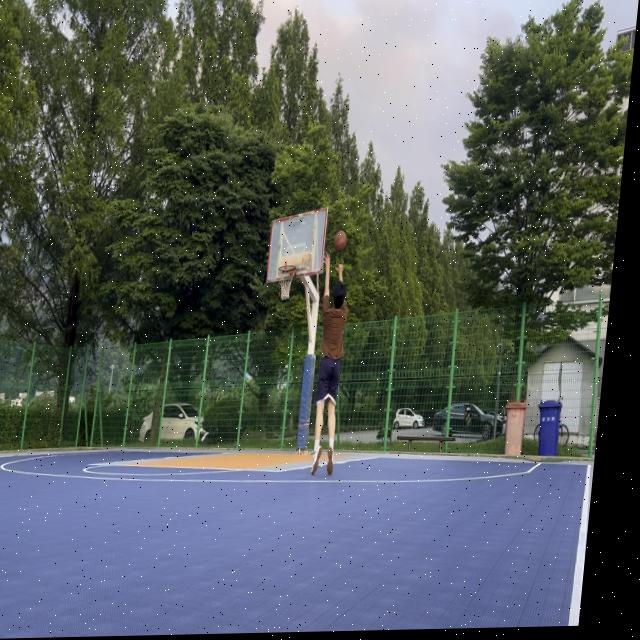basketball: (332, 228, 348, 254)
hoop: (275, 265, 297, 301)
